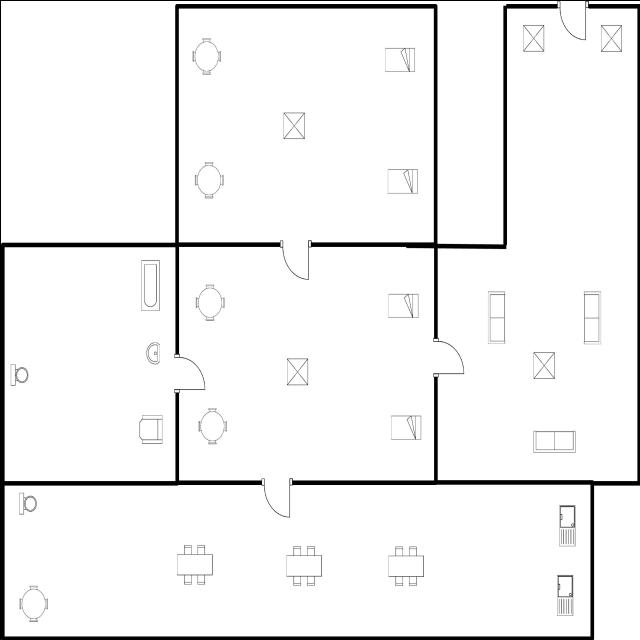armchair: (135, 408, 165, 448)
bed: (379, 41, 418, 77), (386, 410, 424, 442), (382, 166, 422, 196), (384, 290, 420, 322)
coffee_table: (530, 426, 578, 457), (278, 107, 308, 143), (529, 344, 557, 382), (519, 18, 547, 56), (282, 354, 312, 388), (597, 21, 625, 55)
dining_table: (282, 540, 326, 591), (170, 540, 216, 588), (384, 540, 426, 591)
large_sink: (7, 358, 30, 392), (16, 488, 38, 522)
large_sofa: (528, 424, 578, 454), (580, 288, 602, 348), (486, 286, 508, 346)
round_table: (190, 155, 228, 204), (191, 402, 230, 448), (190, 280, 230, 324), (13, 579, 51, 625), (188, 33, 224, 80)
sink: (553, 570, 575, 620), (556, 500, 578, 550)
small_sink: (143, 336, 165, 366)
tub: (136, 255, 162, 314)
